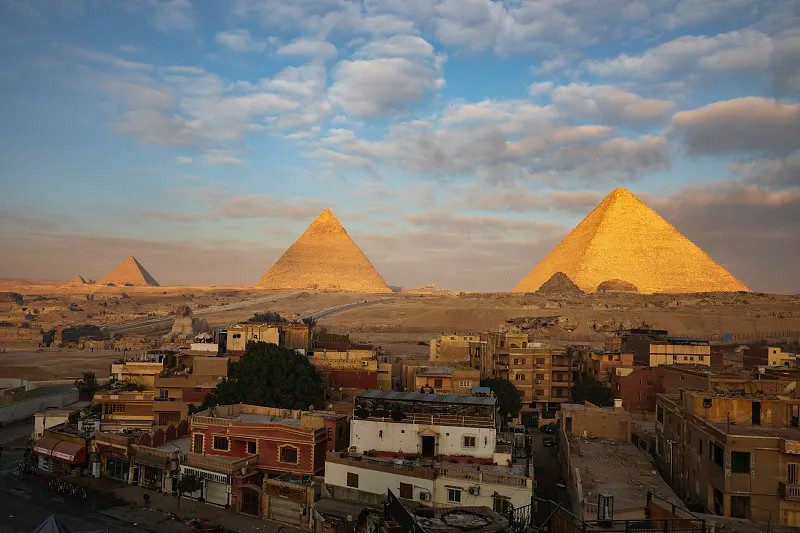Pyramid: (511, 186, 752, 294), (253, 209, 393, 292), (97, 256, 158, 285)
